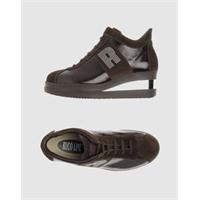shoe: (44, 26, 158, 99), (40, 126, 160, 171)
